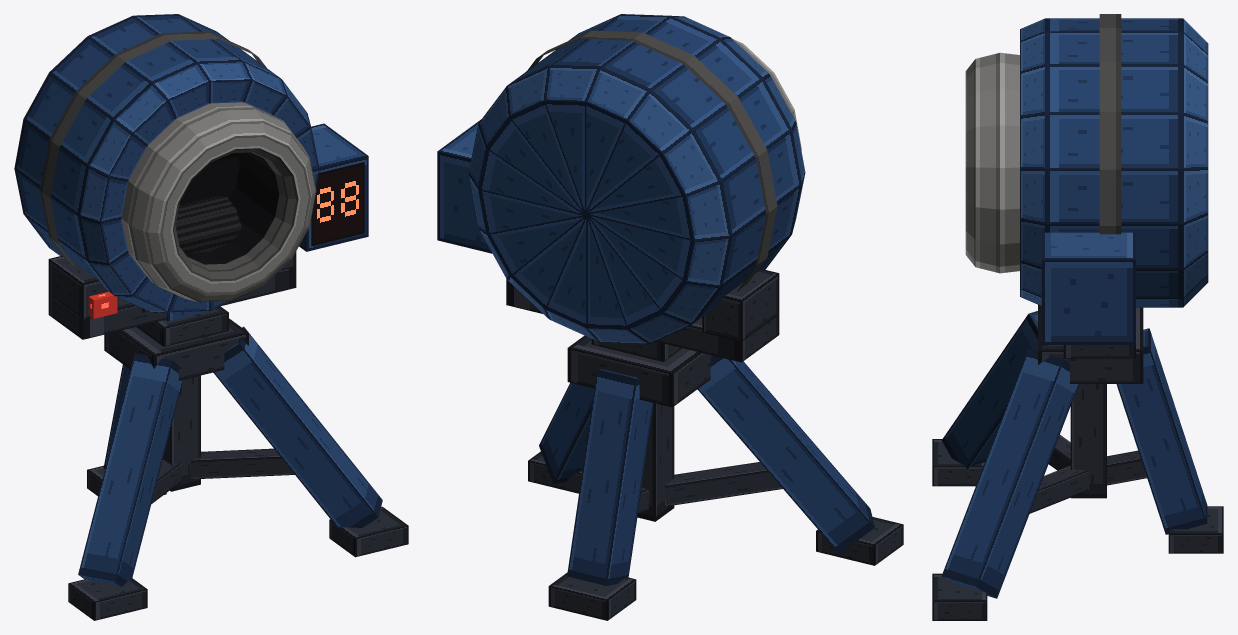
The model's file is pitching_machine_v2_tripod.glb.
3 views of the same model, side by side, from view 1: azimuth 30°, elevation 25°; view 2: azimuth 150°, elevation 25°; view 3: azimuth 270°, elevation 25° (orthographic). The views are drawn at different scales.
Visible parts, largest first — view 1: Body, LED, WheelR; view 2: Body; view 3: Body.
Part boxes in pixels (x1,y1,x2,y2): Body: (14, 14, 408, 620); LED: (88, 162, 364, 318); WheelR: (175, 196, 241, 252); Body: (437, 14, 903, 620); Body: (932, 14, 1223, 620).
Size of the model in its own units: 1.1 by 1.56 by 0.8045.
Materials: 2 (2 with a texture image).
